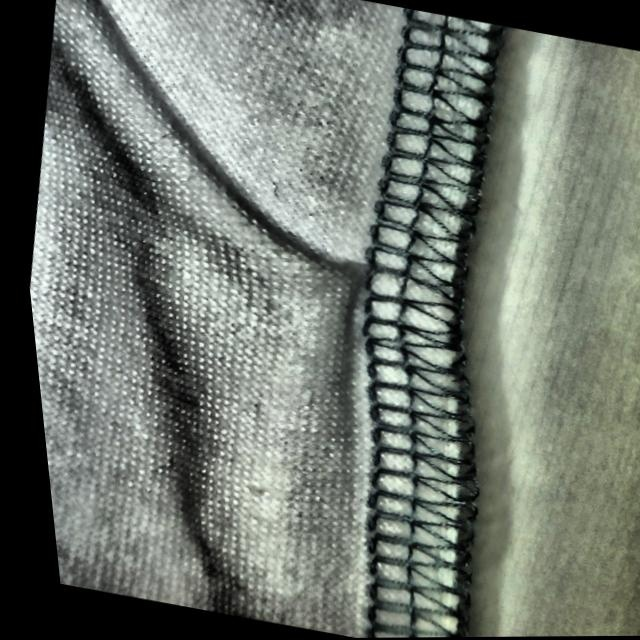seam: (203, 184, 538, 429)
